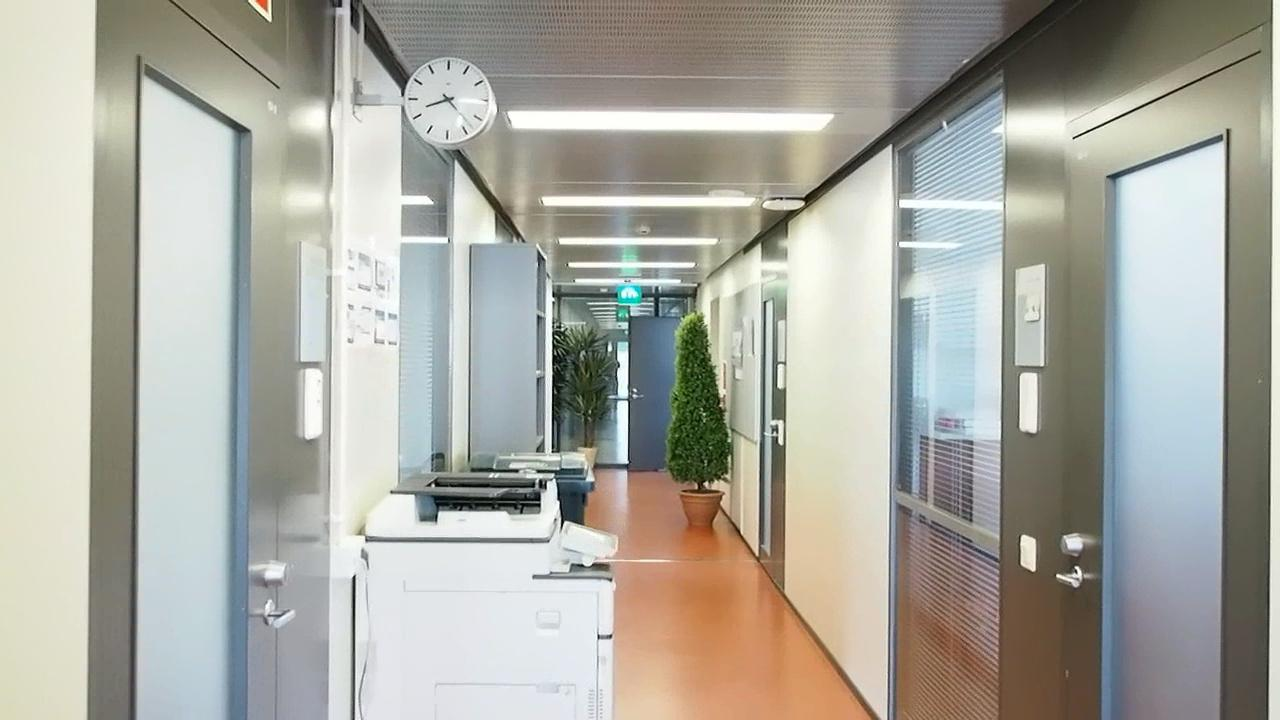clock: (396, 54, 498, 151)
printer: (340, 463, 622, 720)
